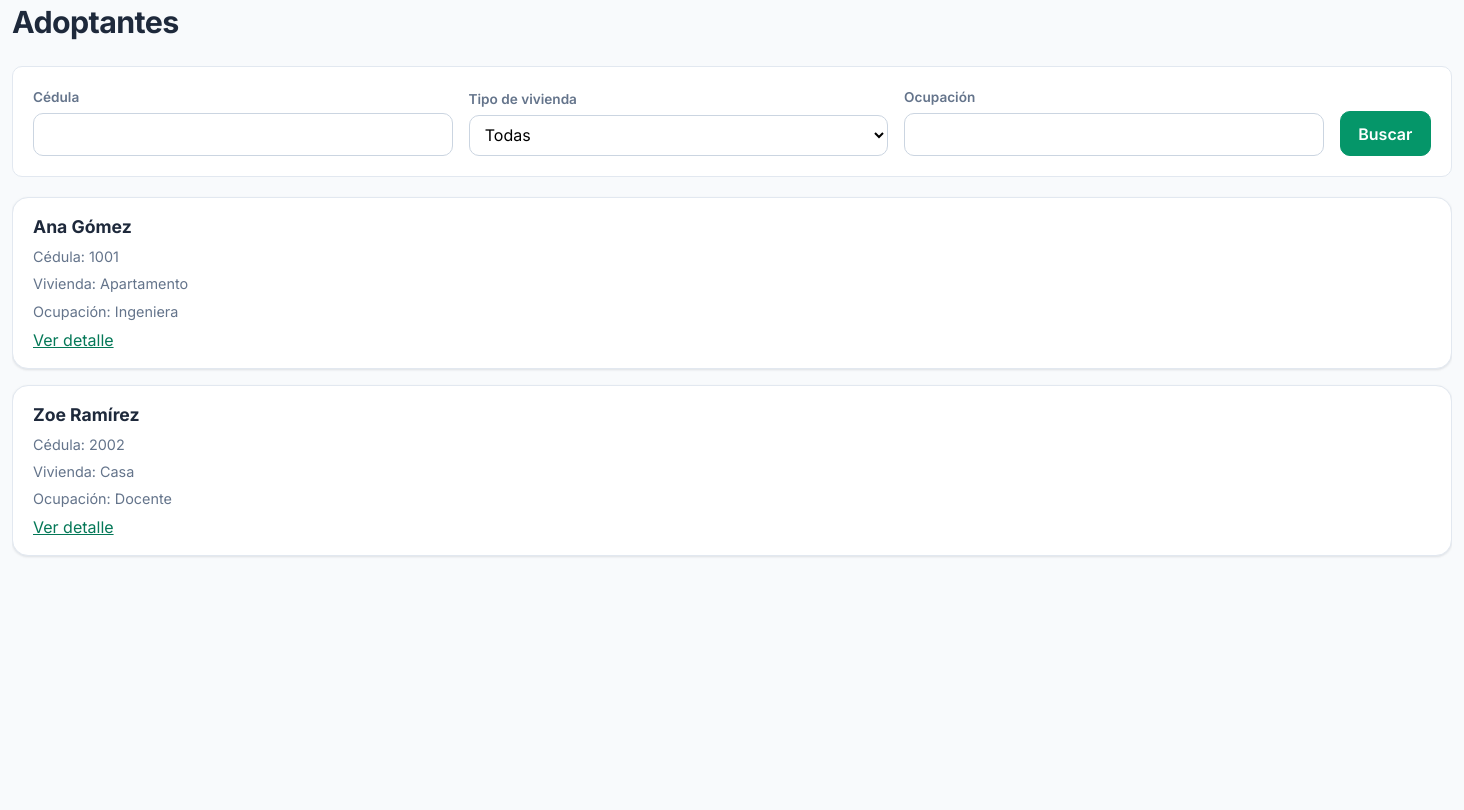
Test: AdoptersPage › offers a clear button in the filtered empty state and reloads all adopters
In the field labelled "Cédula": (243, 134) [33,113,452,156], type "999"
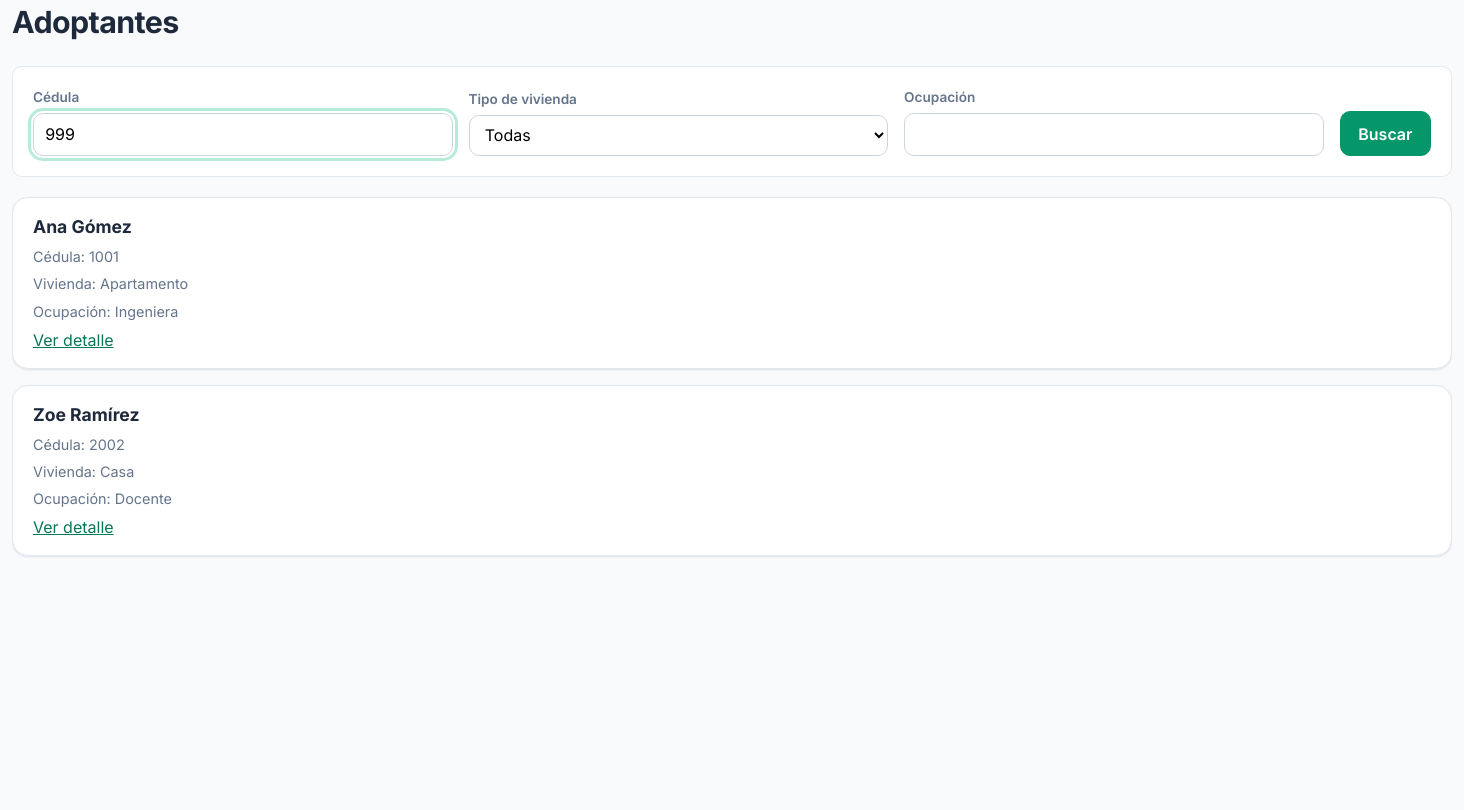
Click the button "Buscar": (1385, 134) [1340,111,1431,156]
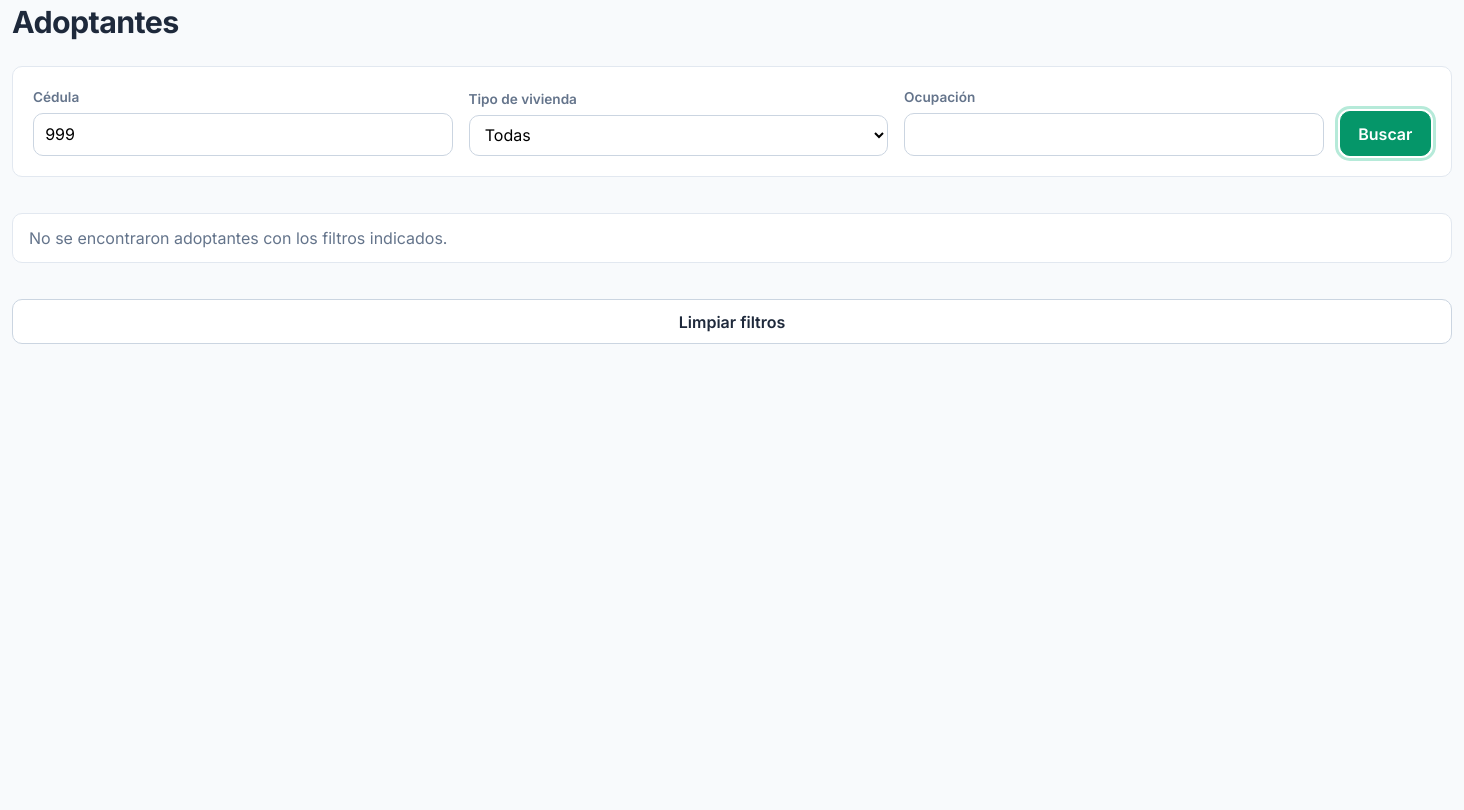
Check: the text "No se encontraron adoptantes con los filtros indicados." is shown, box [29,226,448,250]
Click the button "Limpiar filtros": (732, 322) [12,299,1452,344]
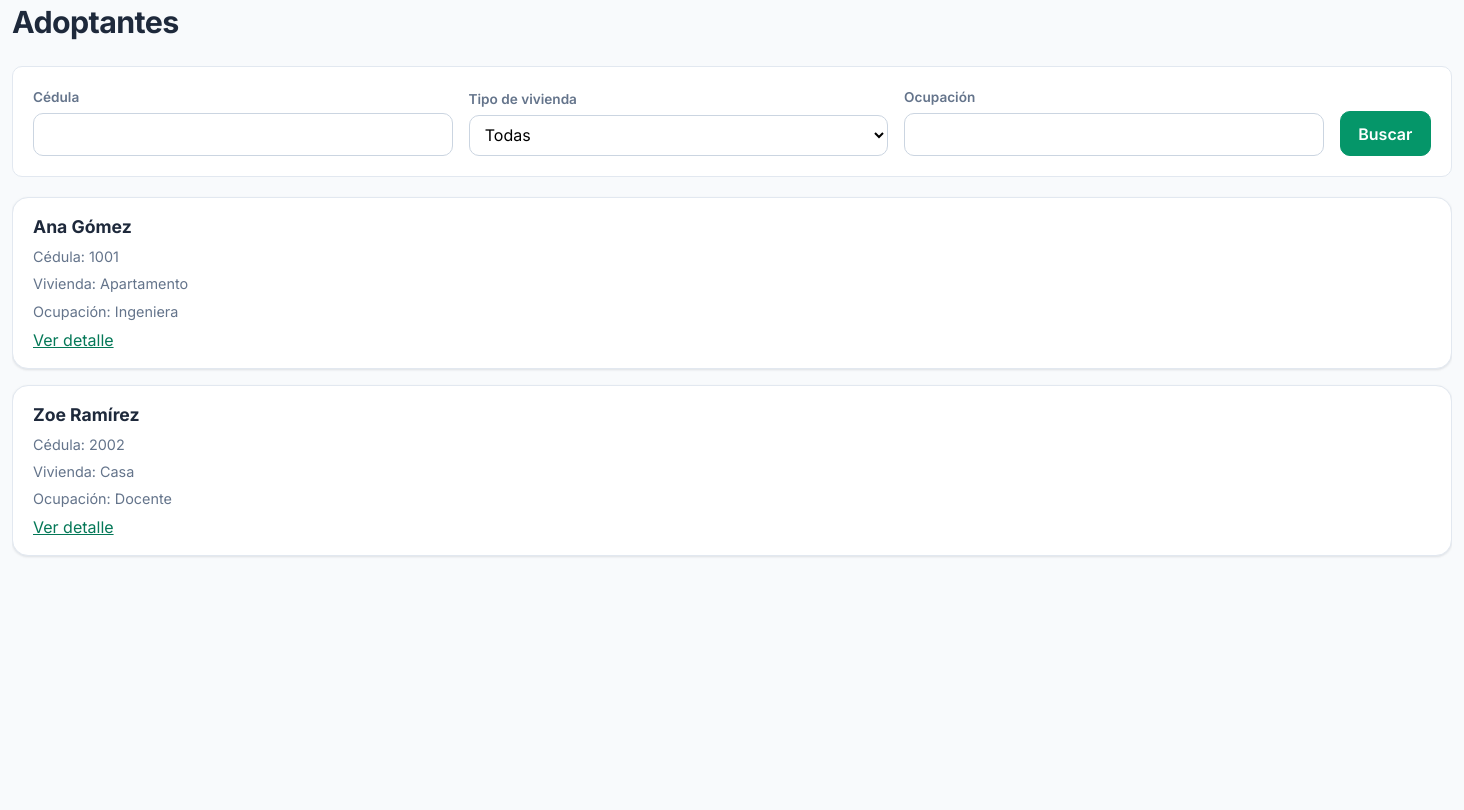
Check: the heading "Ana Gómez" is shown, box [33,216,132,237]
